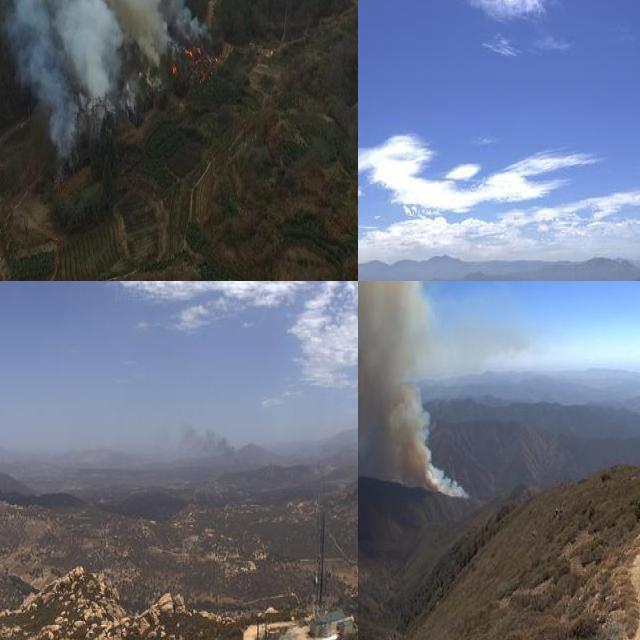fire: (166, 36, 223, 88)
smoke: (358, 281, 473, 501), (0, 0, 205, 112), (173, 416, 277, 486)
